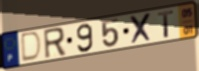5: (99, 18, 120, 49)
9: (76, 23, 95, 54)
D: (21, 30, 44, 64)
R: (42, 26, 68, 61)
T: (156, 9, 175, 40)
X: (129, 11, 154, 46)
